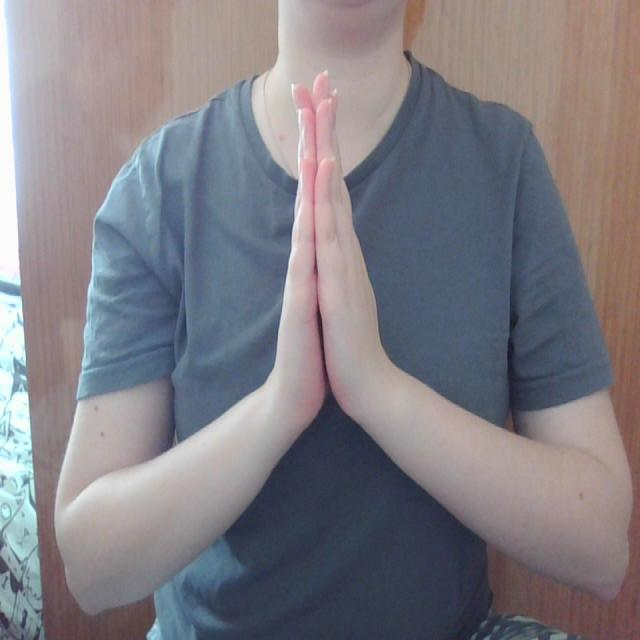Ozur-Dilemek: (256, 66, 402, 460)
